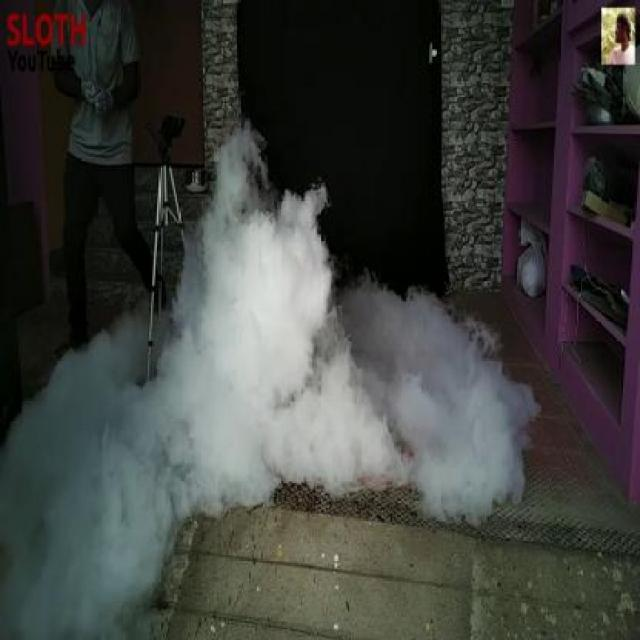smoke: (30, 132, 502, 612)
